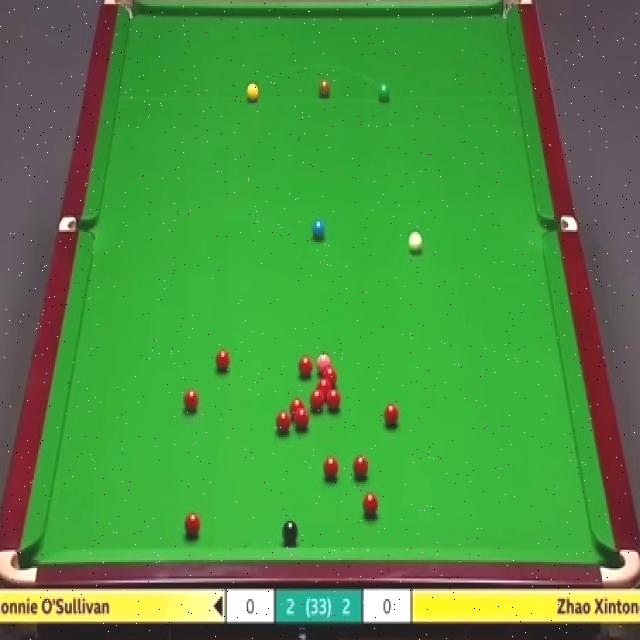black-ball: (282, 517, 298, 545)
blue-ball: (311, 218, 326, 243)
brown-ball: (318, 80, 330, 98)
green-ball: (378, 83, 390, 102)
pink-ball: (317, 352, 332, 370)
red-ball: (361, 492, 379, 519), (185, 512, 202, 538), (298, 354, 314, 380), (384, 404, 400, 427), (215, 348, 230, 372), (352, 456, 368, 478), (184, 388, 198, 413), (295, 407, 310, 430), (324, 457, 339, 479), (326, 390, 342, 410), (276, 411, 291, 432), (309, 390, 325, 409), (289, 396, 304, 414), (315, 378, 333, 392), (322, 368, 339, 380)
white-ball: (408, 227, 423, 255)
yellow-ball: (246, 81, 260, 103)
